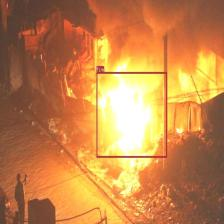fire: (96, 72, 166, 157)
